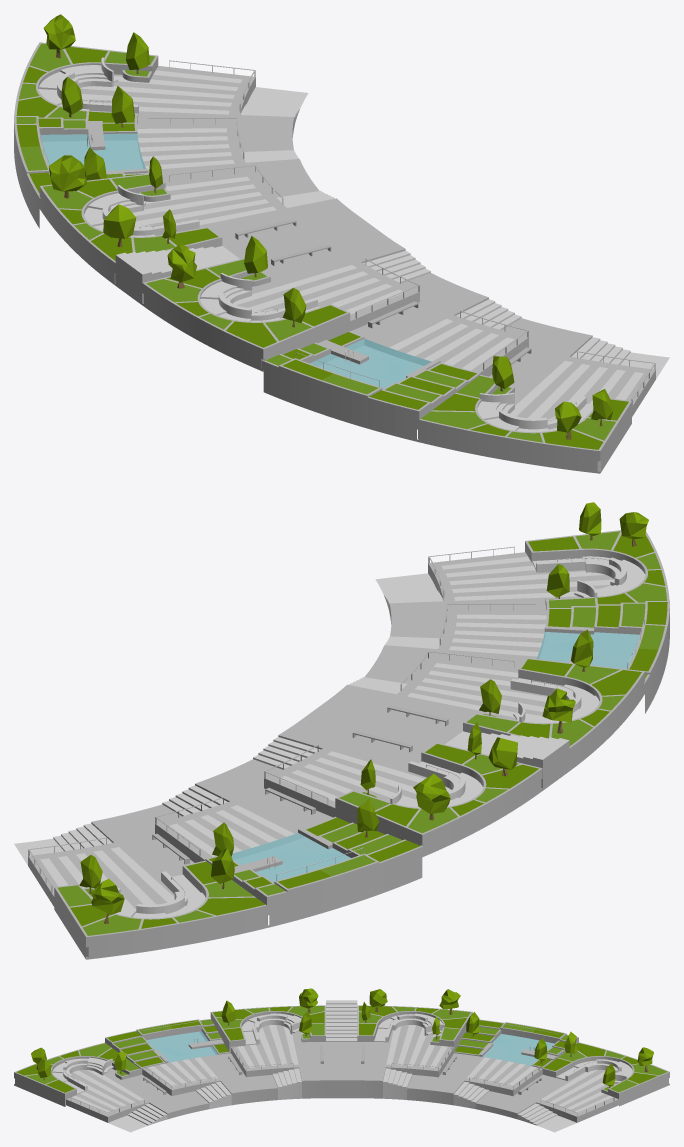
The model's file is ring1_segment.glb.
The picture shows the model from 3 angles, top to bottom: view 1: azimuth 30°, elevation 25°; view 2: azimuth 150°, elevation 25°; view 3: azimuth 270°, elevation 25°; orthographic projection. The views are drawn at different scales.
Parts seen in each view (by area): view 1: RING_1_MOD; view 2: RING_1_MOD; view 3: RING_1_MOD.
Part boxes in pixels (bbox=[...]): RING_1_MOD: bbox=[14, 14, 669, 473]; RING_1_MOD: bbox=[14, 502, 669, 959]; RING_1_MOD: bbox=[14, 988, 669, 1132].
Size of the model in its own units: 3350 by 759 by 8991.
9 materials, 1 textured.
